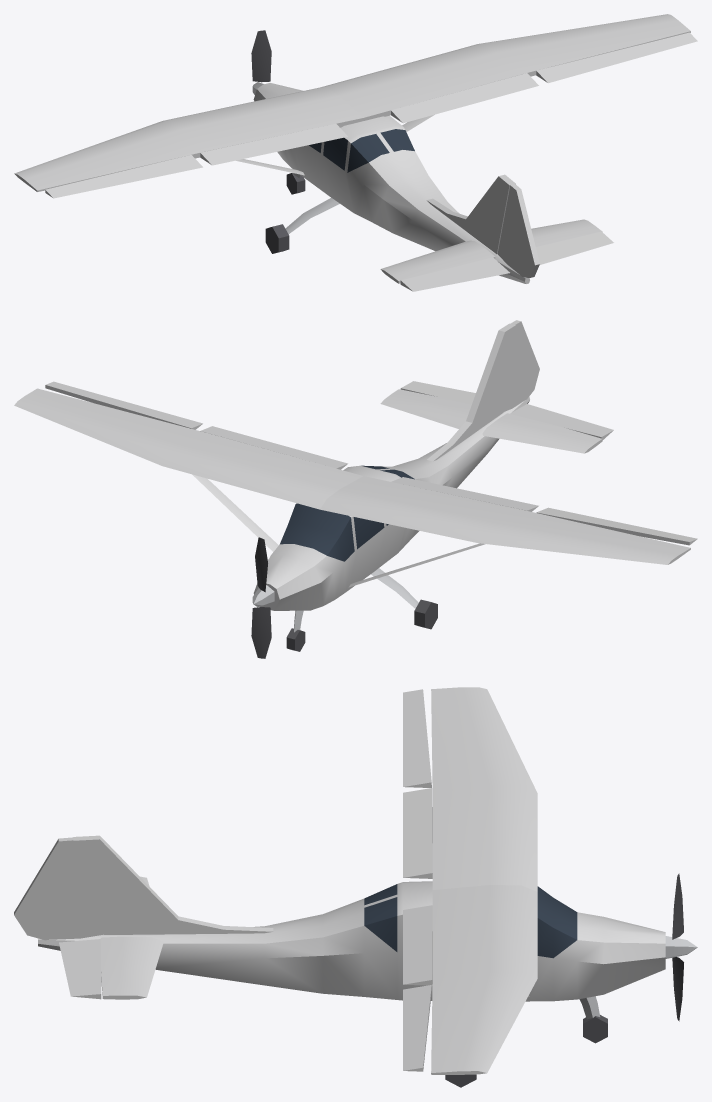
File: Cessna_172_LOD1.glb
3 views of the same model, one above another, from view 1: azimuth 30°, elevation 25°; view 2: azimuth 150°, elevation 25°; view 3: azimuth 270°, elevation 25° (orthographic). The views are drawn at different scales.
Parts seen in each view (by area): view 1: Fuselage, Wing_Right, Wing_Left, Elevator, Rudder, VerticalTail, Flap_Right, Flap_Left, Aileron_Right, HorizontalTail_Left, Aileron_Left, HorizontalTail_Right (+3 smaller); view 2: Fuselage, Wing_Right, Wing_Left, VerticalTail, HorizontalTail_Left, Elevator, HorizontalTail_Right, Rudder, Aileron_Right, Propeller, Aileron_Left, Flap_Right (+3 smaller); view 3: Fuselage, Wing_Left, Wing_Right, VerticalTail, Rudder, HorizontalTail_Right, Flap_Left, Aileron_Left, Flap_Right, Elevator, Aileron_Right, Propeller.
Boxes of the visible parts, left/top/right/bottom form: Fuselage: left=253, top=83, right=529, bottom=283; Wing_Right: left=321, top=14, right=690, bottom=120; Wing_Left: left=14, top=87, right=363, bottom=191; Elevator: left=400, top=231, right=613, bottom=291; Rudder: left=497, top=184, right=539, bottom=277; VerticalTail: left=426, top=174, right=515, bottom=254; Flap_Right: left=391, top=73, right=538, bottom=123; Flap_Left: left=200, top=124, right=347, bottom=165; Aileron_Right: left=536, top=32, right=697, bottom=83; HorizontalTail_Left: left=380, top=240, right=495, bottom=283; Aileron_Left: left=45, top=155, right=202, bottom=198; HorizontalTail_Right: left=531, top=219, right=602, bottom=246; Fuselage: left=253, top=396, right=529, bottom=610; Wing_Right: left=14, top=388, right=362, bottom=509; Wing_Left: left=320, top=476, right=690, bottom=564; VerticalTail: left=427, top=323, right=515, bottom=461; HorizontalTail_Left: left=482, top=413, right=602, bottom=453; Elevator: left=400, top=381, right=613, bottom=439; HorizontalTail_Right: left=380, top=389, right=471, bottom=428; Rudder: left=503, top=320, right=539, bottom=411; Aileron_Right: left=45, top=381, right=202, bottom=429; Propeller: left=251, top=537, right=271, bottom=658; Aileron_Left: left=536, top=507, right=697, bottom=545; Flap_Right: left=200, top=426, right=347, bottom=469; Fuselage: left=38, top=881, right=665, bottom=1001; Wing_Left: left=431, top=687, right=537, bottom=891; Wing_Right: left=431, top=885, right=537, bottom=1074; VerticalTail: left=73, top=835, right=273, bottom=934; Rudder: left=14, top=837, right=103, bottom=940; HorizontalTail_Right: left=100, top=936, right=163, bottom=999; Flap_Left: left=403, top=788, right=432, bottom=878; Aileron_Left: left=403, top=689, right=431, bottom=787; Flap_Right: left=403, top=905, right=432, bottom=985; Elevator: left=59, top=939, right=101, bottom=999; Aileron_Right: left=403, top=985, right=431, bottom=1071; Propeller: left=672, top=873, right=683, bottom=1021.
Bounding box in the file's own units: 11 × 2.72 × 8.28.
